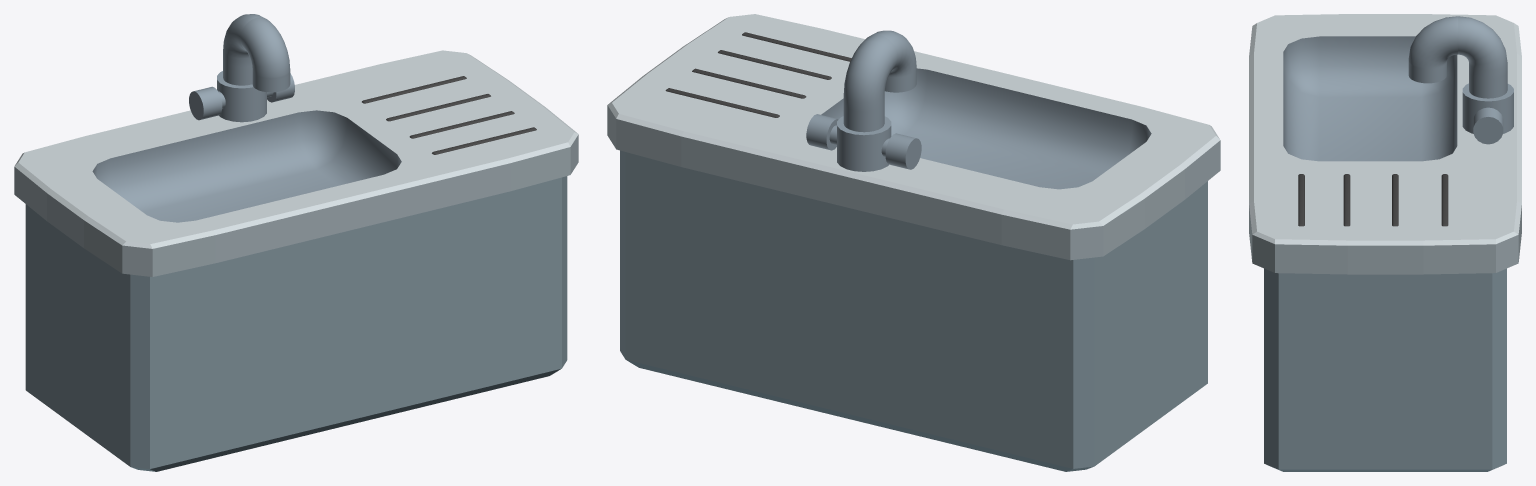
Rendered from Sink_3.fbx.
3 renders of one model, left to right at view 1: azimuth 30°, elevation 25°; view 2: azimuth 150°, elevation 25°; view 3: azimuth 270°, elevation 25°, orthographic. The views are drawn at different scales.
Visible parts, largest first — view 1: Cook_Stand_B, Loft001, Cylinder001, Cylinder004; view 2: Cook_Stand_B, Loft001, Cylinder001, Cylinder004, Cylinder005; view 3: Cook_Stand_B, Loft001, Cylinder001, Cylinder005, ChamferBox001, ChamferBox003, ChamferBox002, ChamferBox004.
Part boxes in pixels (box(x1,y1,x2,y2)): Cook_Stand_B: box(14, 50, 578, 471); Loft001: box(223, 14, 290, 92); Cylinder001: box(217, 71, 266, 122); Cylinder004: box(189, 86, 222, 120); Cook_Stand_B: box(607, 14, 1220, 471); Loft001: box(843, 30, 916, 132); Cylinder001: box(837, 116, 891, 171); Cylinder004: box(885, 133, 921, 169); Cylinder005: box(806, 114, 838, 150); Cook_Stand_B: box(1249, 14, 1521, 471); Loft001: box(1408, 16, 1507, 98); Cylinder001: box(1462, 83, 1513, 133); Cylinder005: box(1473, 107, 1503, 144); ChamferBox001: box(1441, 174, 1448, 226); ChamferBox003: box(1343, 174, 1350, 226); ChamferBox002: box(1392, 174, 1398, 226); ChamferBox004: box(1298, 174, 1304, 226).
Bounding box in the file's own units: 84.56 × 59.45 × 42.28.
Materials: 3 (1 with a texture image).
